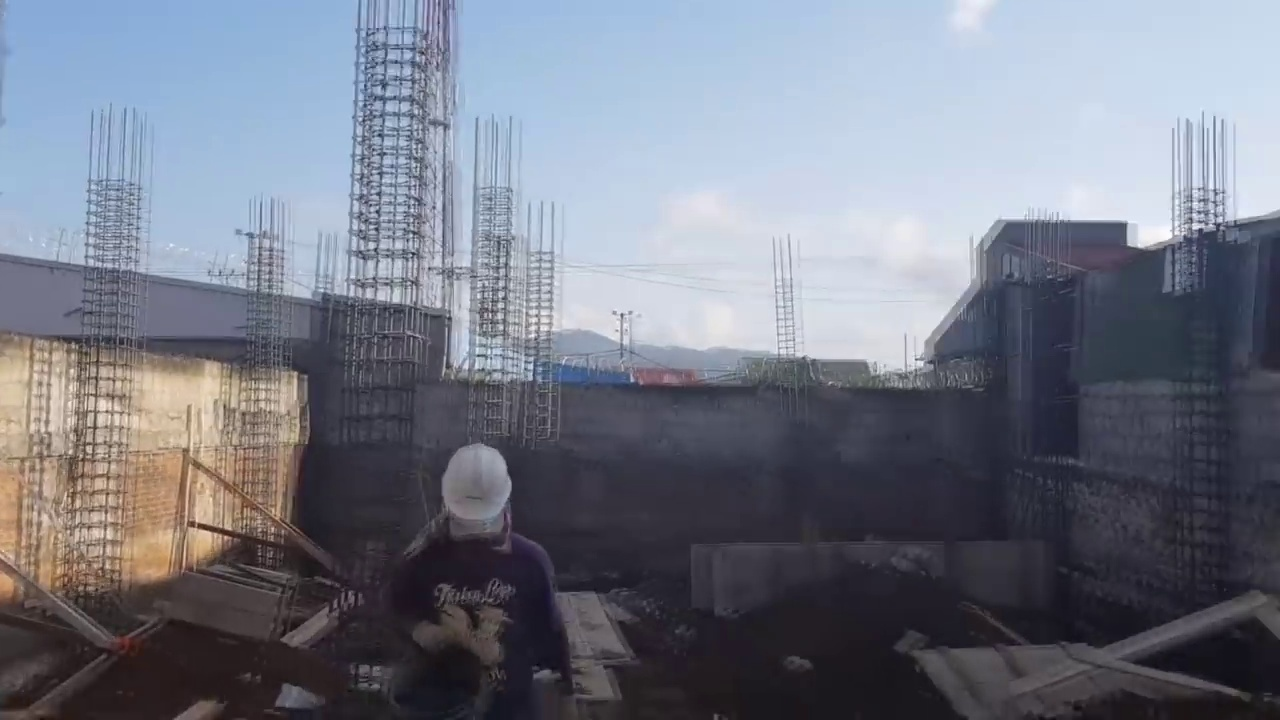helmet: (439, 442, 515, 521)
helmet-on: (435, 435, 514, 562)
person: (375, 439, 559, 688)
